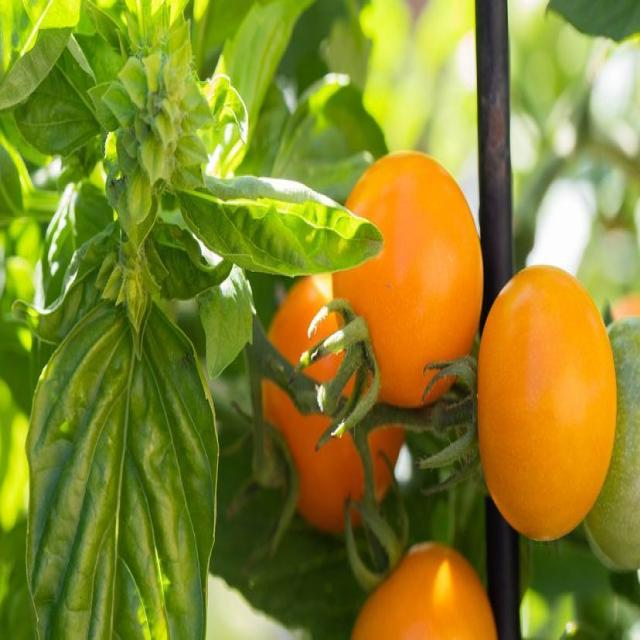level 2: (576, 317, 640, 577)
level 5: (335, 149, 485, 408), (476, 265, 617, 540), (263, 272, 408, 534), (346, 538, 500, 640)
